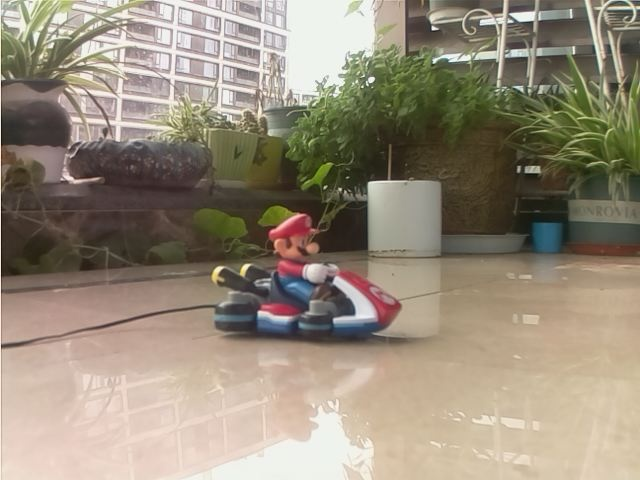mario: (208, 210, 405, 342)
